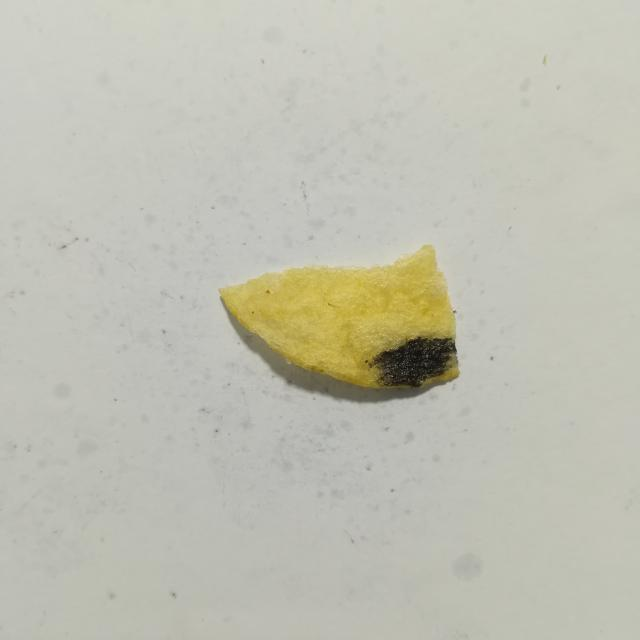chip: (219, 246, 459, 388)
damaged: (369, 337, 457, 387), (364, 359, 368, 364)
